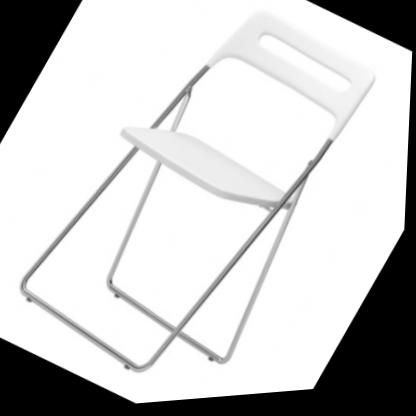Chair: (1, 0, 401, 415)
